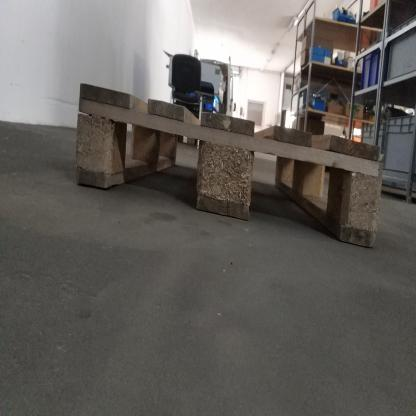BoxFace: (72, 72, 390, 258)
